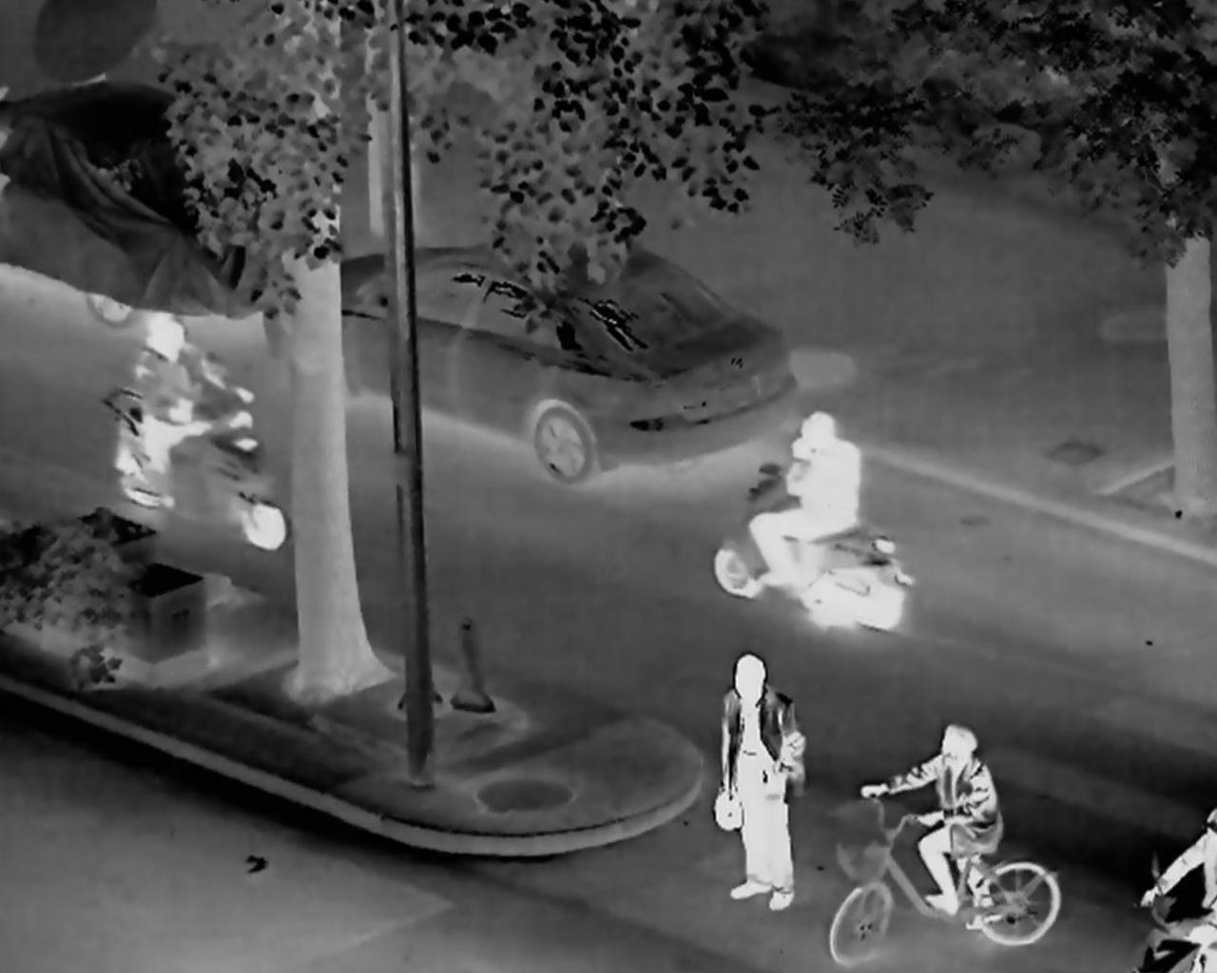person: (858, 728, 1003, 935), (718, 654, 802, 908), (749, 410, 863, 592), (134, 309, 250, 486), (1144, 809, 1217, 952)
